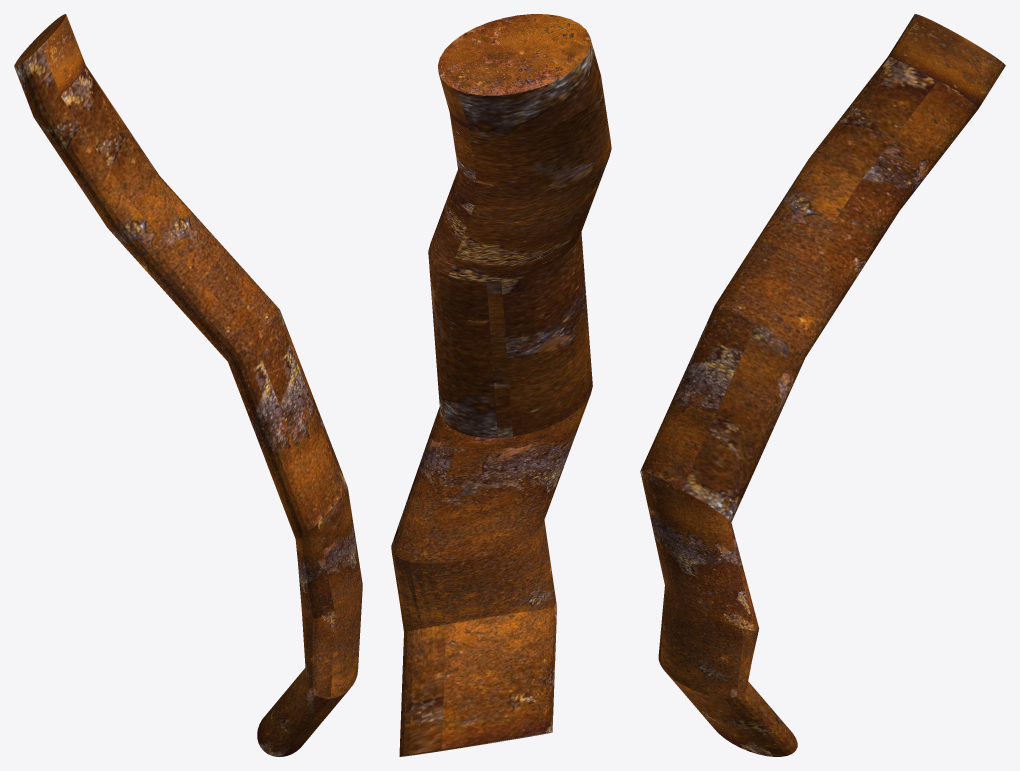
File: MaderaFierro2.fbx
The picture shows the model from 3 angles, left to right: view 1: azimuth 30°, elevation 25°; view 2: azimuth 150°, elevation 25°; view 3: azimuth 270°, elevation 25°; orthographic projection. The views are drawn at different scales.
Visible parts, largest first — view 1: Cylinder.020; view 2: Cylinder.020; view 3: Cylinder.020.
Part boxes in pixels (left/top/right/bottom): Cylinder.020: left=14, top=14, right=362, bottom=756; Cylinder.020: left=391, top=14, right=611, bottom=756; Cylinder.020: left=640, top=14, right=1005, bottom=756.
Size of the model in its own units: 297 by 788 by 397.
